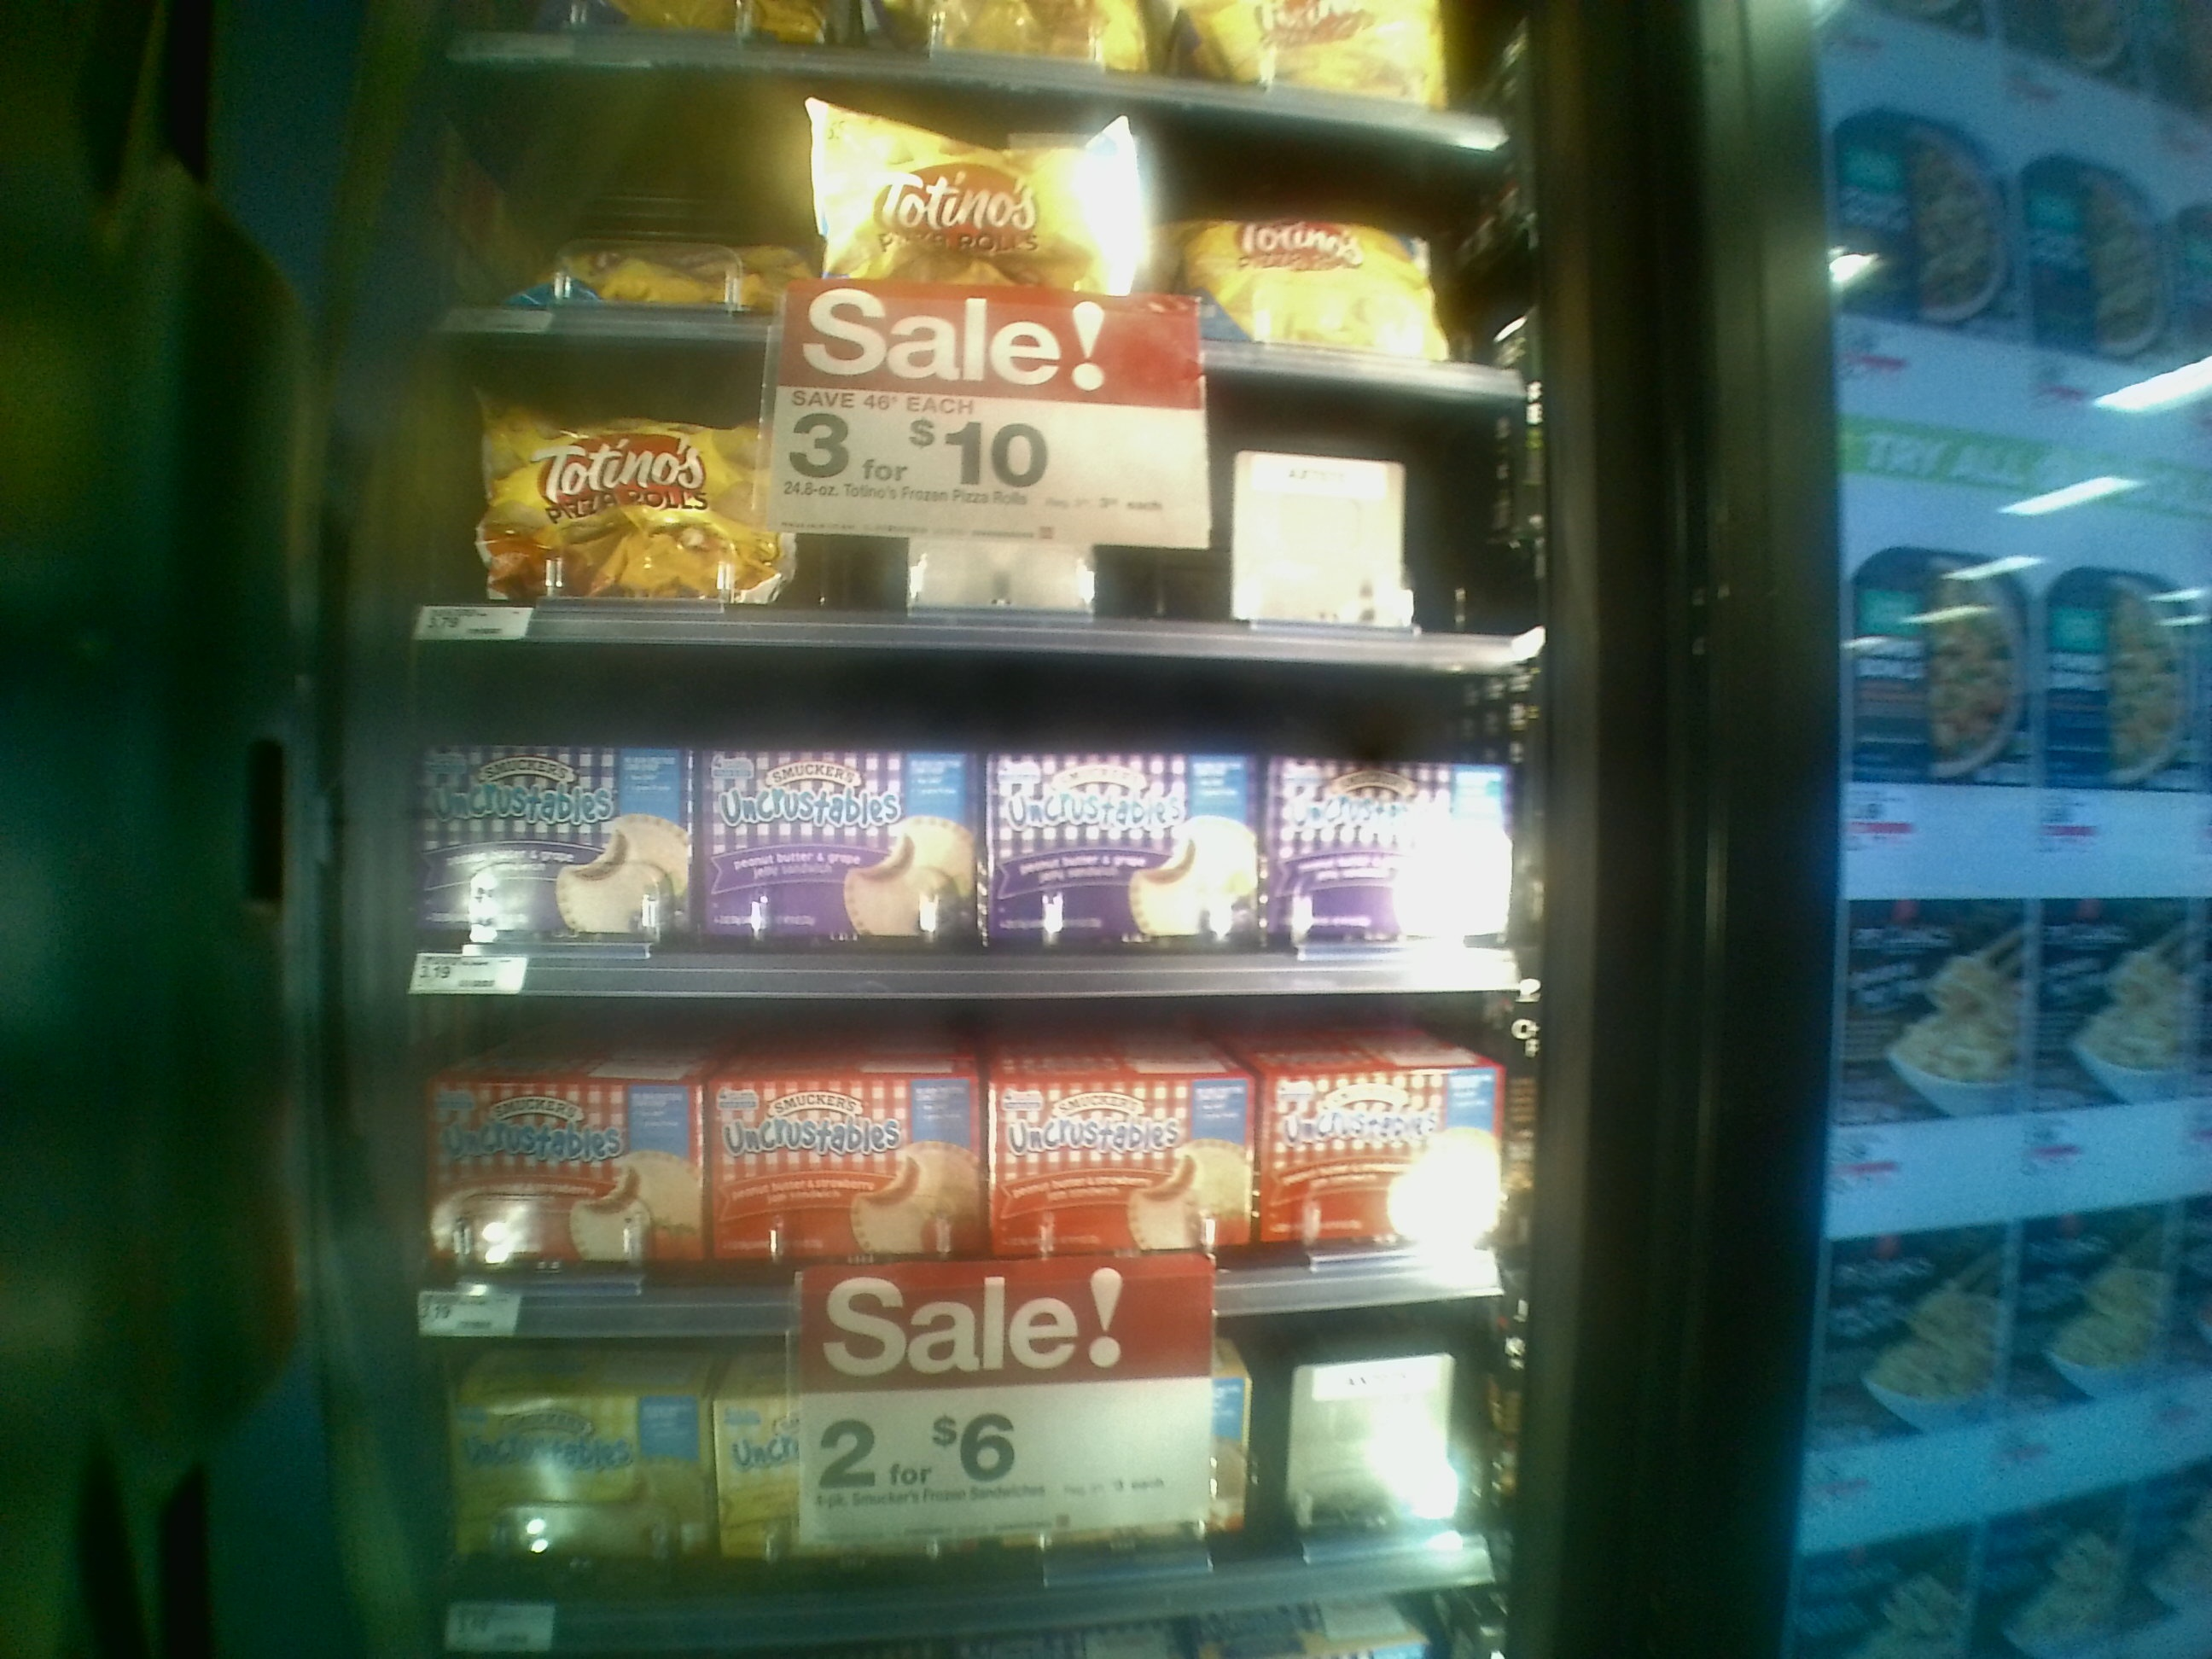shelf: (402, 655, 1534, 999), (408, 329, 1527, 674), (381, 988, 1517, 1310), (404, 1310, 1491, 1631)
